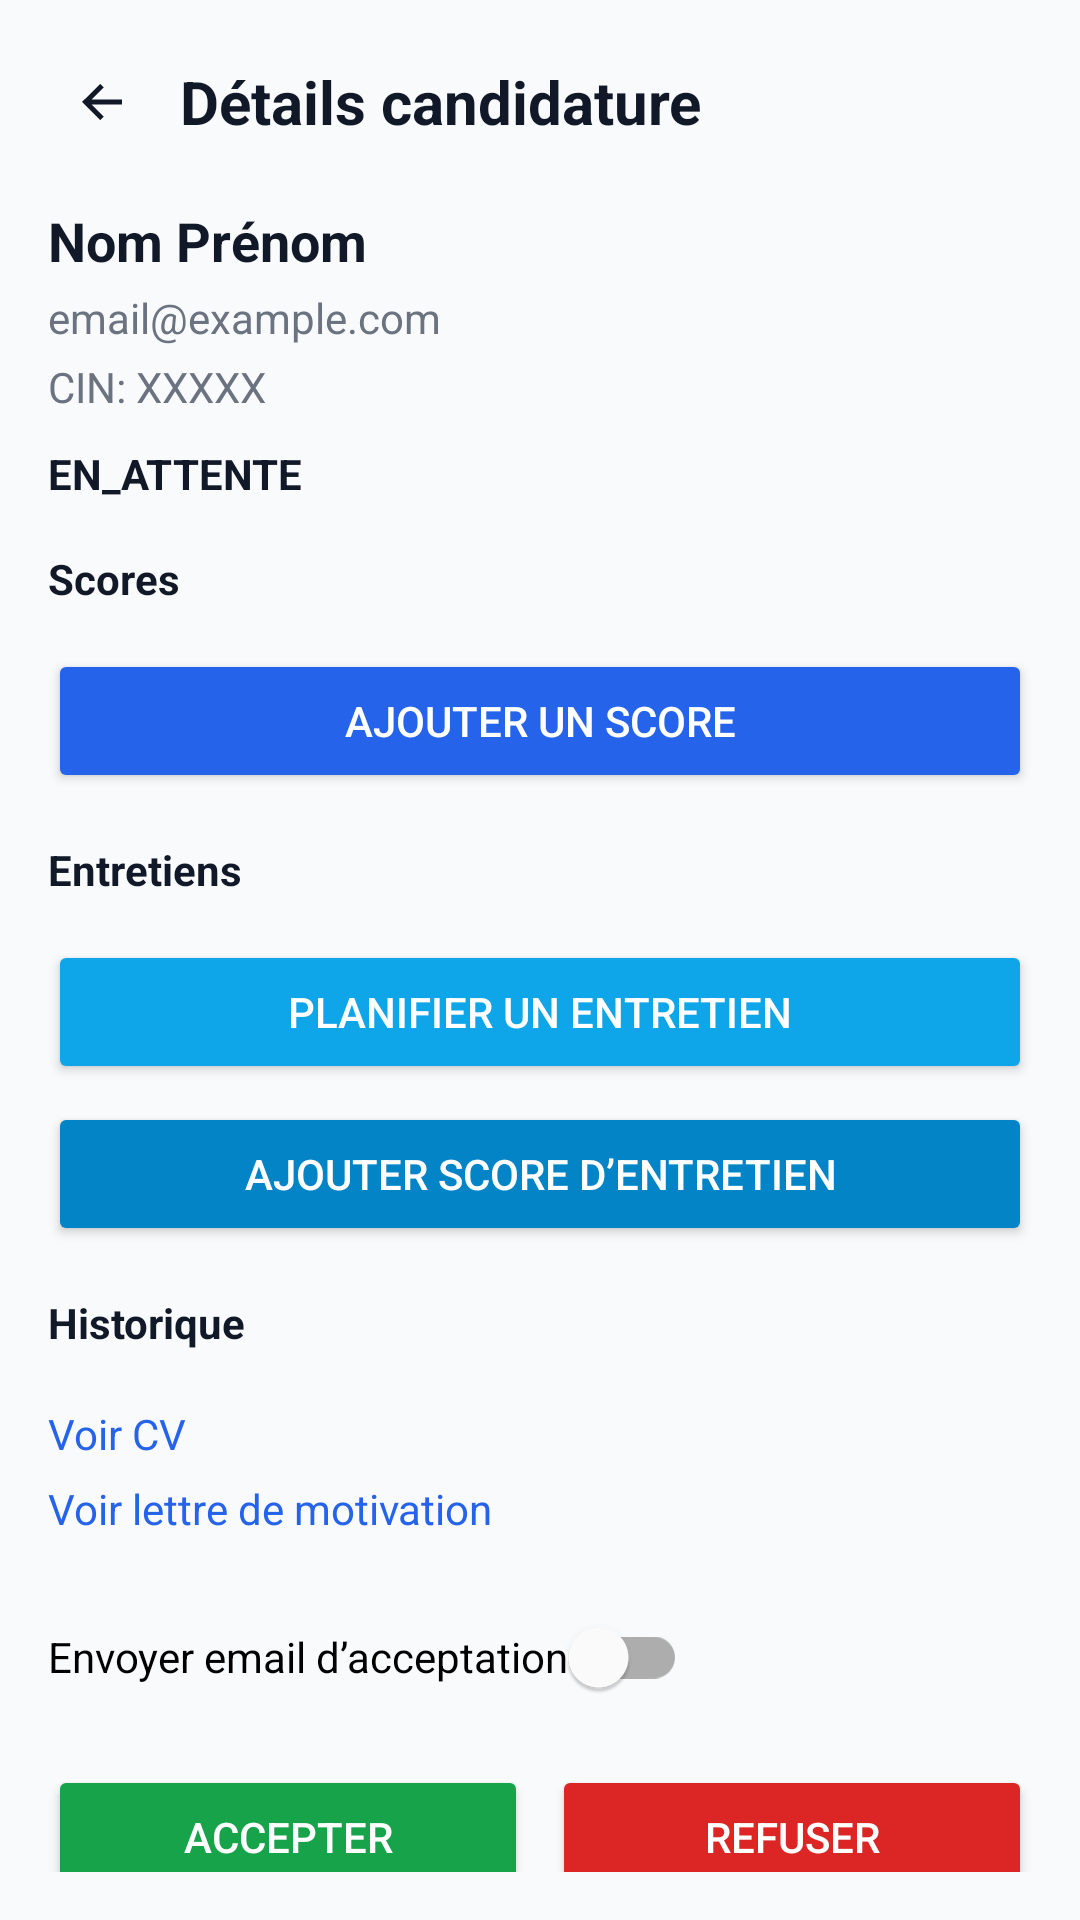

Screen size 1080px x 1920px. Icon name, then its center in pixels as [x,y]:
arrow back: [102,102]
